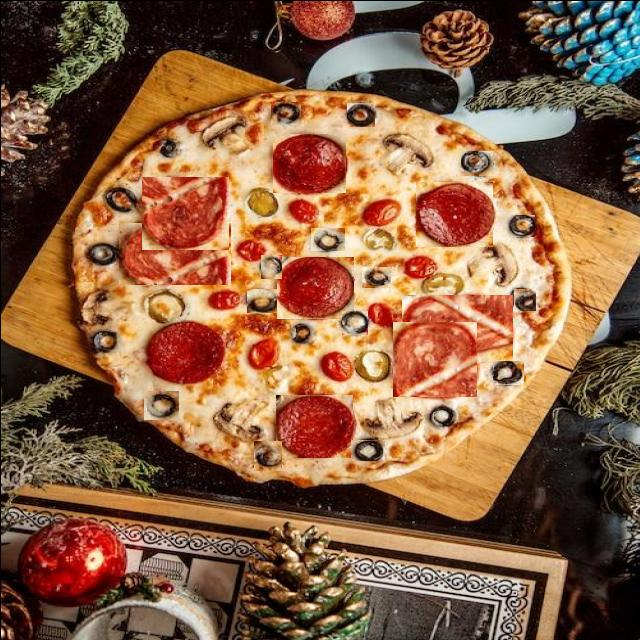olive: (143, 388, 178, 418), (105, 187, 138, 215), (253, 440, 281, 470), (460, 150, 492, 175), (82, 243, 118, 265), (310, 227, 344, 250), (492, 360, 523, 384), (246, 288, 276, 312), (350, 439, 384, 460), (270, 101, 300, 124), (346, 102, 374, 126), (427, 405, 457, 427), (158, 137, 185, 161), (341, 310, 367, 334), (361, 266, 390, 287), (90, 329, 116, 352), (287, 322, 313, 345), (508, 214, 534, 236), (260, 254, 281, 278), (513, 288, 535, 310)
pepperoni: (401, 294, 512, 361), (118, 222, 230, 284), (141, 176, 228, 249), (392, 321, 476, 396), (144, 319, 221, 385), (415, 181, 492, 246), (275, 394, 352, 457), (276, 256, 353, 318), (270, 133, 344, 192)
pizza: (68, 87, 574, 482)
